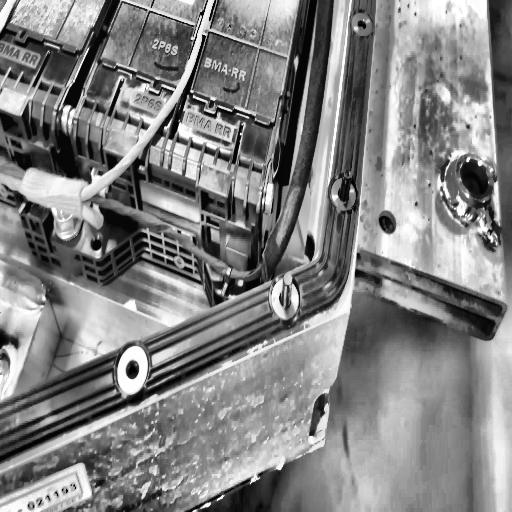high_volt_cable: (0, 0, 220, 209)
low_volt_cable: (96, 0, 331, 285)
